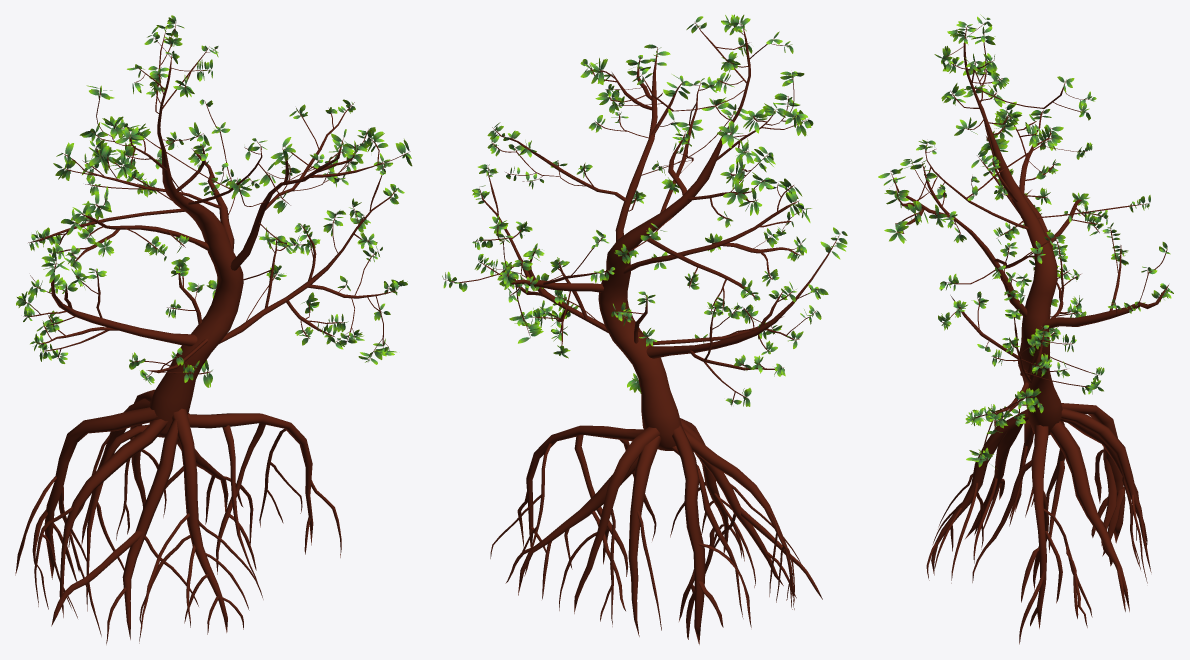
The model's file is Mangrove_Normal_02 1.fbx.
The picture shows the model from 3 angles, left to right: view 1: azimuth 30°, elevation 25°; view 2: azimuth 150°, elevation 25°; view 3: azimuth 270°, elevation 25°; orthographic projection. The views are drawn at different scales.
Parts seen in each view (by area): view 1: Tree, Leaf_02; view 2: Tree, Leaf_02; view 3: Tree, Leaf_02.
Part boxes in pixels (x1,y1,x2,y2): Tree: [15, 21, 410, 644]; Leaf_02: [16, 15, 412, 387]; Tree: [443, 22, 840, 644]; Leaf_02: [442, 14, 847, 406]; Tree: [890, 23, 1168, 644]; Leaf_02: [878, 14, 1173, 467].
Bounding box in the file's own units: 705 × 1074 × 530.
